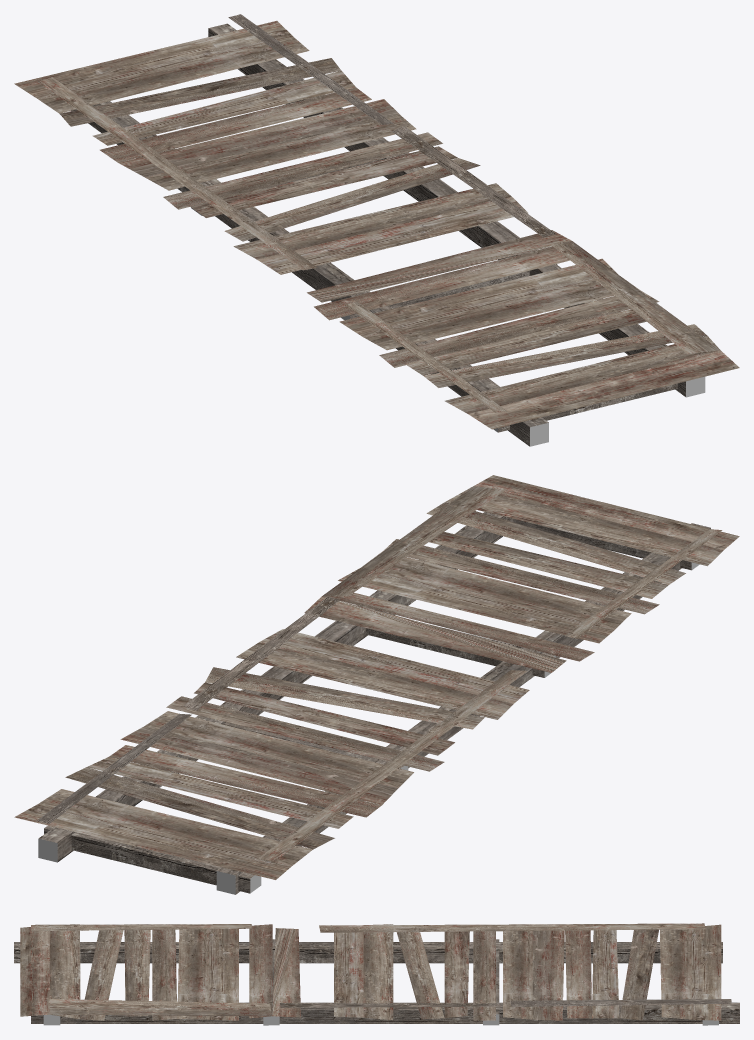
Rendered from Platform1_LOD2.fbx.
3 views of the same model, one above another, from view 1: azimuth 30°, elevation 25°; view 2: azimuth 150°, elevation 25°; view 3: azimuth 270°, elevation 25° (orthographic). The views are drawn at different scales.
Parts seen in each view (by area): view 1: polySurface1236; view 2: polySurface1236; view 3: polySurface1236.
Part boxes in pixels (box(x1,y1,x2,y2)): polySurface1236: box(14, 14, 739, 446); polySurface1236: box(14, 475, 739, 894); polySurface1236: box(14, 923, 739, 1025).
Bounding box in the file's own units: 2.88 × 0.3206 × 9.11.
